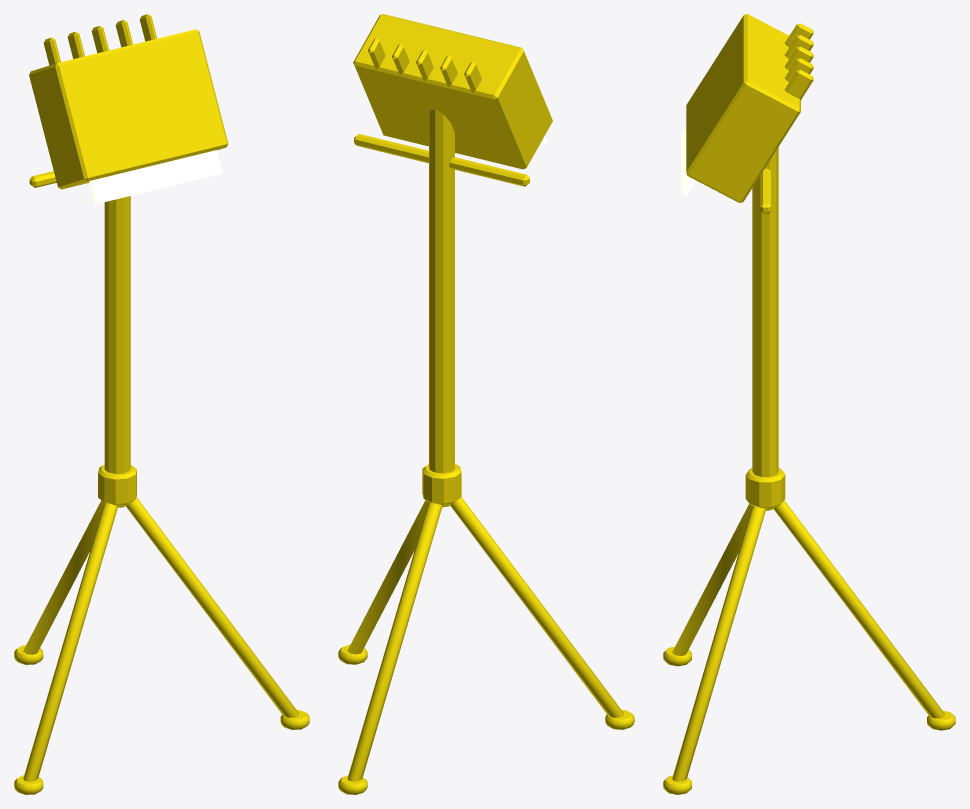
Rendered from work-lamp.glb.
3 renders of one model, left to right at view 1: azimuth 30°, elevation 25°; view 2: azimuth 150°, elevation 25°; view 3: azimuth 270°, elevation 25°, orthographic.
Parts seen in each view (by area): view 1: Lamp_TripodFrame, Lamp_TripodLens; view 2: Lamp_TripodFrame; view 3: Lamp_TripodFrame.
Part boxes in pixels (x1,y1,x2,y2): Lamp_TripodFrame: [14, 14, 309, 794]; Lamp_TripodLens: [89, 150, 222, 204]; Lamp_TripodFrame: [338, 14, 634, 794]; Lamp_TripodFrame: [663, 14, 955, 794].
Bounding box in the file's own units: 3.03 × 6.82 × 2.66.
